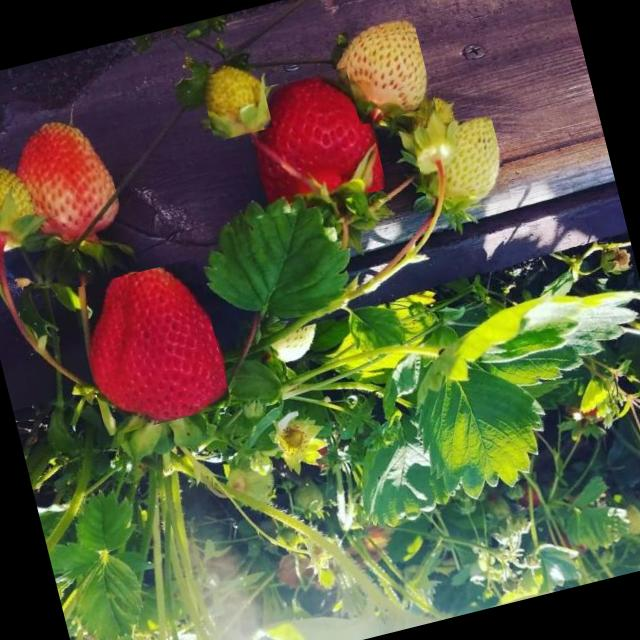ripe: (70, 257, 232, 436), (241, 64, 387, 216), (11, 109, 127, 256)
unripe: (337, 15, 435, 124), (411, 112, 512, 217), (198, 62, 272, 141), (0, 159, 45, 263), (264, 302, 326, 362)
